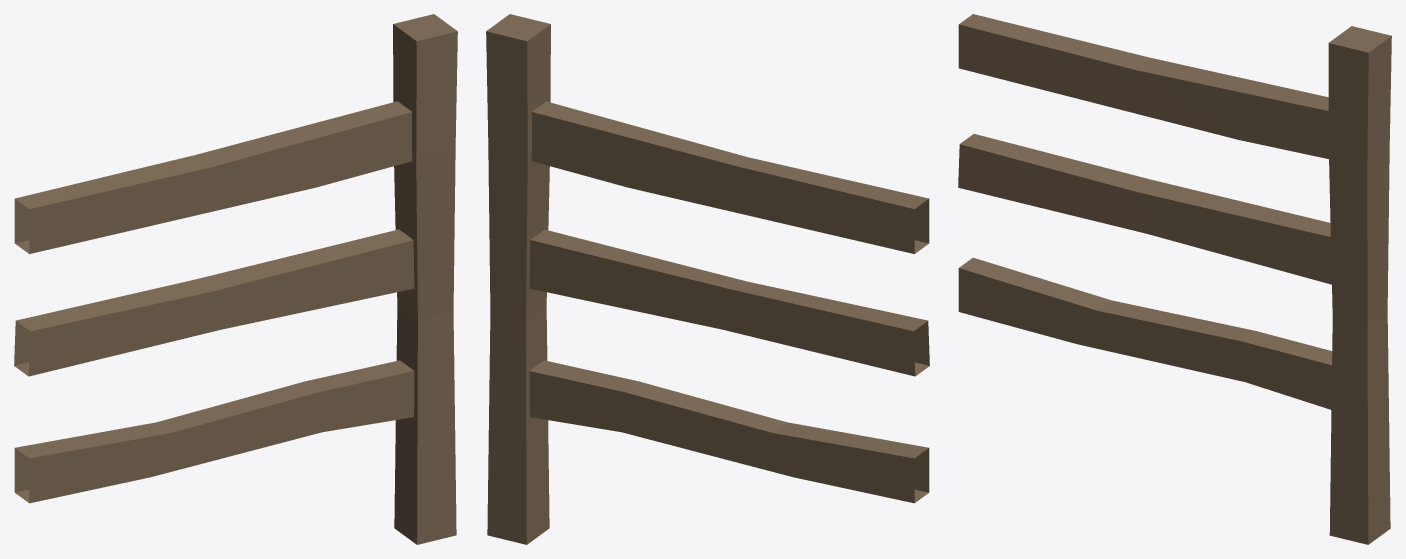
File: fence_b_1m_02.FBX
3 views of the same model, side by side, from view 1: azimuth 30°, elevation 25°; view 2: azimuth 150°, elevation 25°; view 3: azimuth 330°, elevation 25° (orthographic). The views are drawn at different scales.
Visible parts, largest first — view 1: fence_b_1m_002; view 2: fence_b_1m_002; view 3: fence_b_1m_002.
Boxes of the visible parts, x1,y1,x2,y2 form: fence_b_1m_002: [14, 14, 457, 544]; fence_b_1m_002: [486, 14, 929, 544]; fence_b_1m_002: [958, 14, 1391, 544].
Size of the model in its own units: 1.04 by 1.18 by 0.1005.
